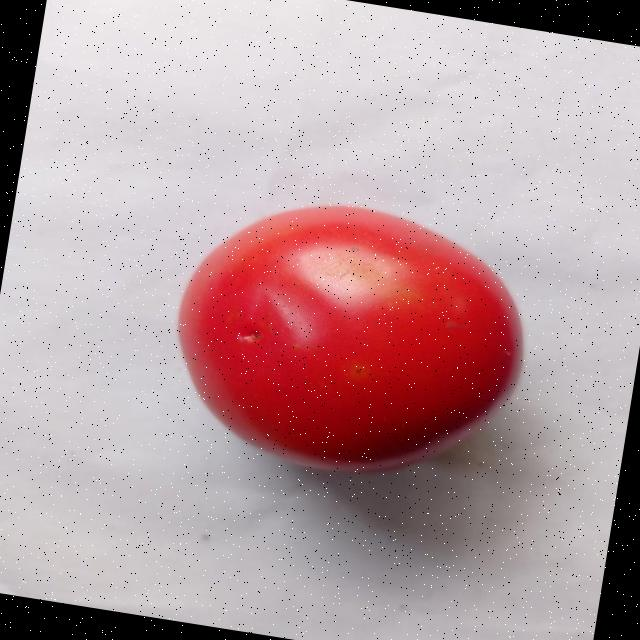Ripe: (150, 174, 556, 506)
